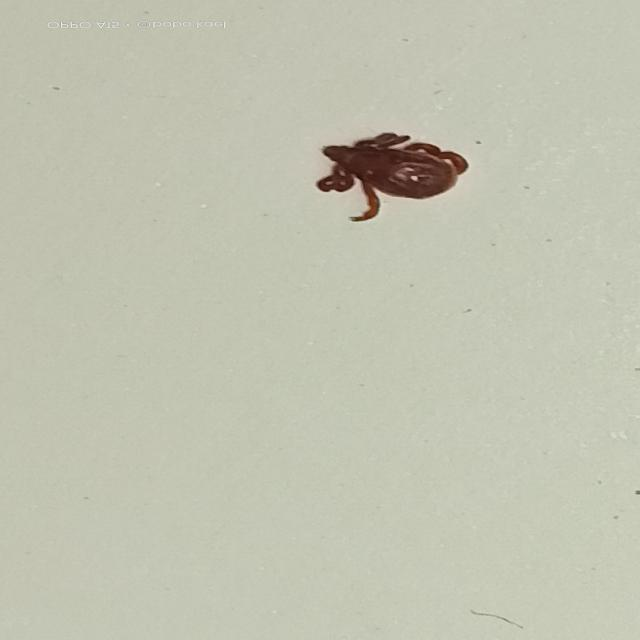Rhipicephalus Sanguineus-M: (316, 130, 470, 221)
